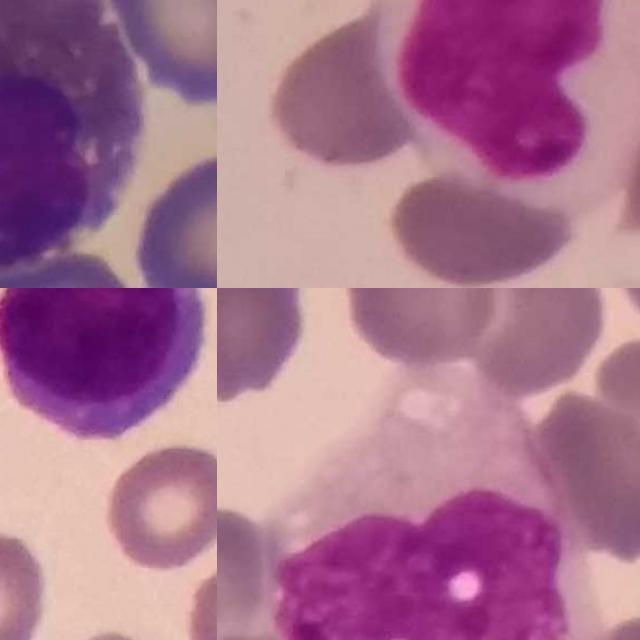Eosinophil: (0, 0, 149, 267)
Lymphocyte: (0, 288, 205, 442)
Monocyte: (270, 369, 604, 640), (391, 0, 640, 192)
